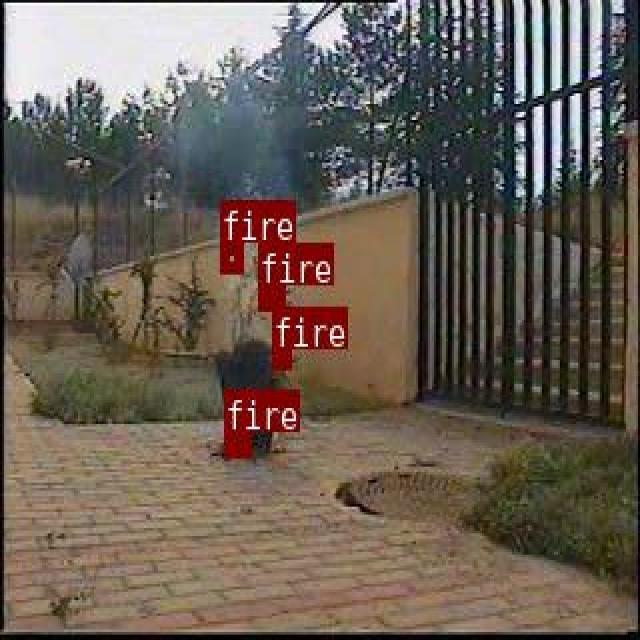fire: (222, 429, 250, 456), (257, 283, 282, 309), (219, 243, 241, 270), (272, 349, 289, 367)
